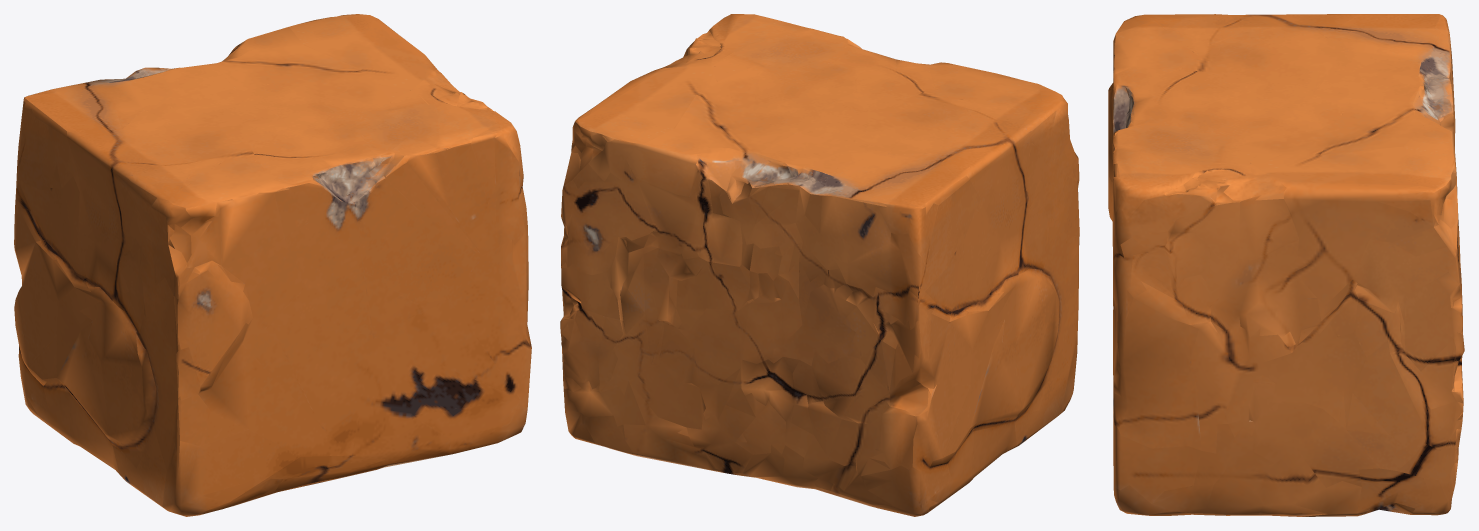
File: cover_half_ruins_v1.glb
3 views of the same model, side by side, from view 1: azimuth 30°, elevation 25°; view 2: azimuth 150°, elevation 25°; view 3: azimuth 270°, elevation 25° (orthographic). The views are drawn at different scales.
Size of the model in its own units: 0.9676 by 0.8 by 0.7849.
Materials: 1 (1 with a texture image).
